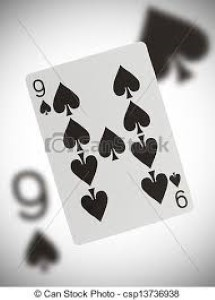NineOfSpades: (1, 1, 214, 283), (22, 40, 195, 251)
